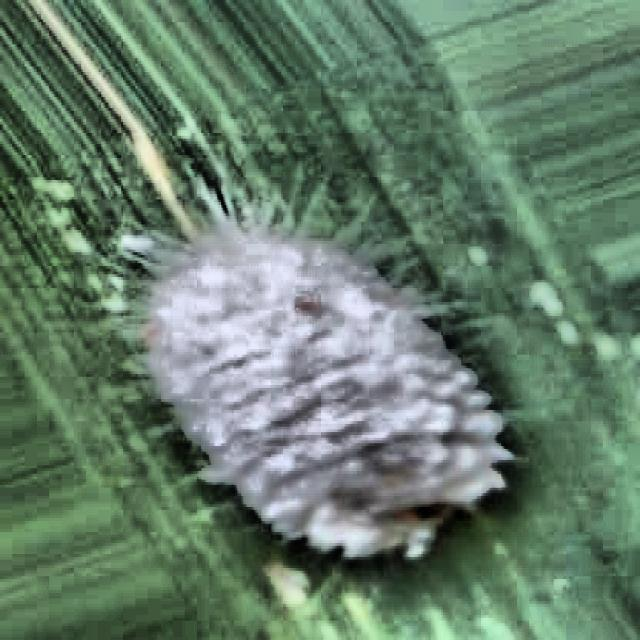Mealy-bug: (59, 83, 624, 640)
